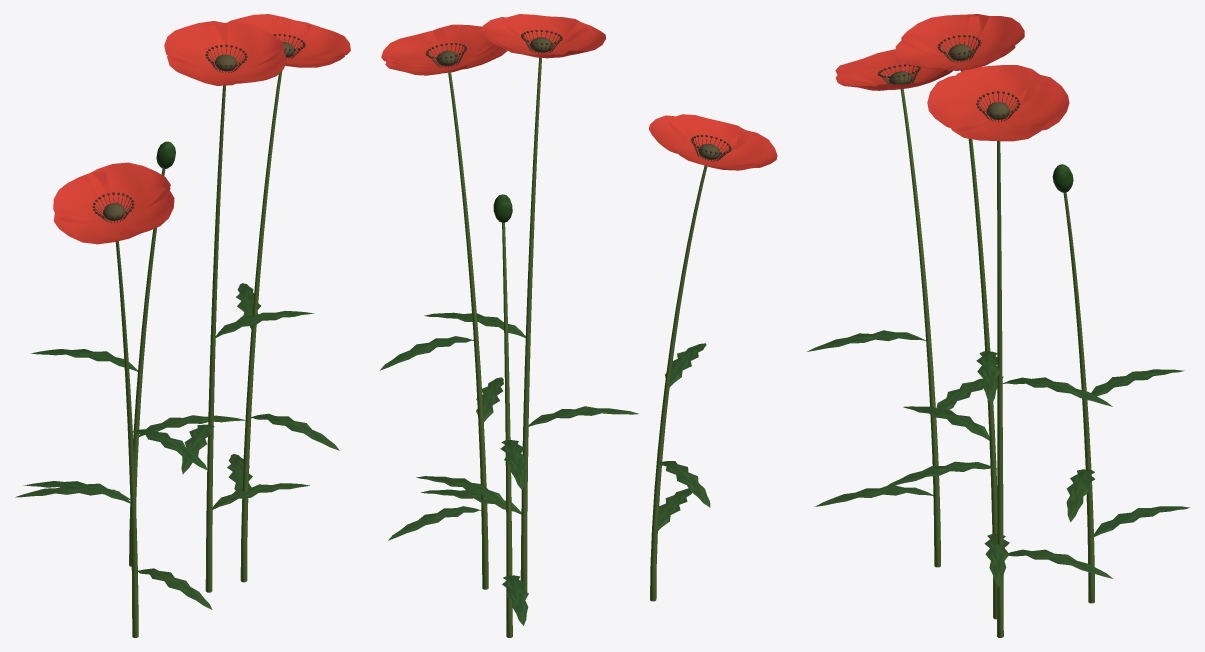
File: n-poppy.glb
3 renders of one model, left to right at view 1: azimuth 30°, elevation 25°; view 2: azimuth 150°, elevation 25°; view 3: azimuth 270°, elevation 25°, orthographic. The views are drawn at different scales.
Visible parts, largest first — view 1: Flowers, Stems, Foliage; view 2: Flowers, Stems, Foliage; view 3: Flowers, Foliage, Stems.
Boxes of the visible parts, x1,y1,x2,y2 form: Flowers: (53, 14, 350, 244); Stems: (115, 71, 282, 637); Foliage: (15, 141, 339, 609); Flowers: (381, 14, 777, 170); Stems: (448, 57, 707, 637); Foliage: (380, 194, 710, 625); Flowers: (835, 14, 1069, 141); Foliage: (807, 164, 1189, 586); Stems: (900, 70, 1094, 637).
Bounding box in the file's own units: 0.3882 × 0.62 × 0.3702.
Materials: 3 (1 with a texture image).
